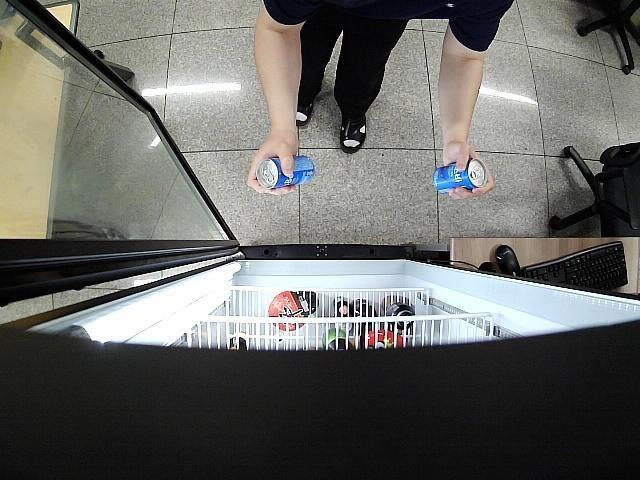15_letsbe: (258, 154, 317, 191), (433, 156, 488, 194)
